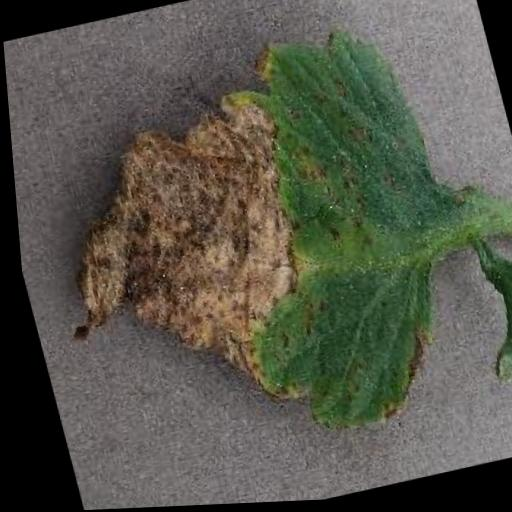Bacterial Spot: (2, 10, 498, 486)
